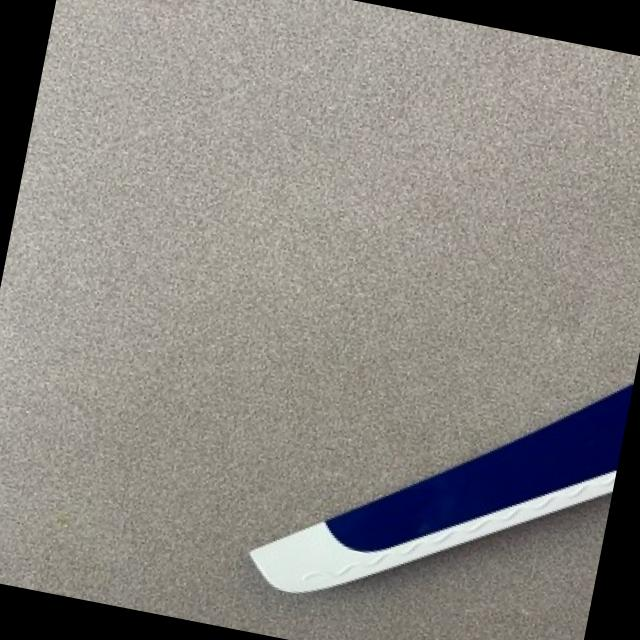healthy: (249, 385, 631, 590), (309, 498, 609, 640)
